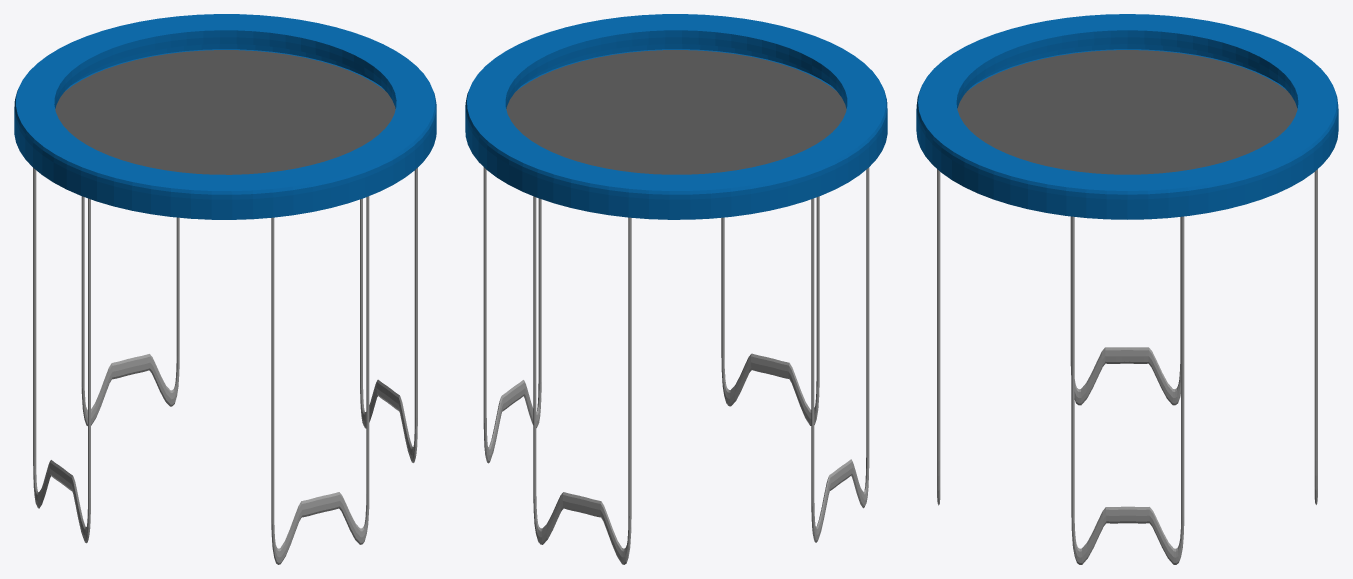
The model's file is sh-scopia-trampoline.glb.
3 renders of one model, left to right at view 1: azimuth 30°, elevation 25°; view 2: azimuth 150°, elevation 25°; view 3: azimuth 270°, elevation 25°, orthographic.
Parts seen in each view (by area): view 1: Circle, BezierCurve.003_Mesh.003; view 2: Circle, BezierCurve.003_Mesh.003; view 3: Circle, BezierCurve.003_Mesh.003.
Boxes of the visible parts, x1,y1,x2,y2 form: Circle: (14, 14, 436, 219); BezierCurve.003_Mesh.003: (33, 168, 417, 564); Circle: (465, 14, 887, 219); BezierCurve.003_Mesh.003: (483, 167, 869, 564); Circle: (916, 14, 1338, 219); BezierCurve.003_Mesh.003: (937, 169, 1317, 564).
Size of the model in its own units: 1 by 1 by 1.
